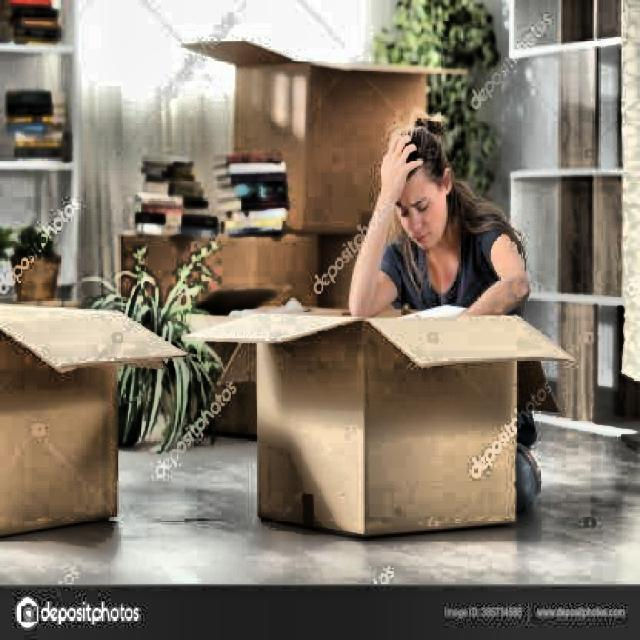Cardbox: (208, 297, 568, 550), (0, 280, 189, 548)
